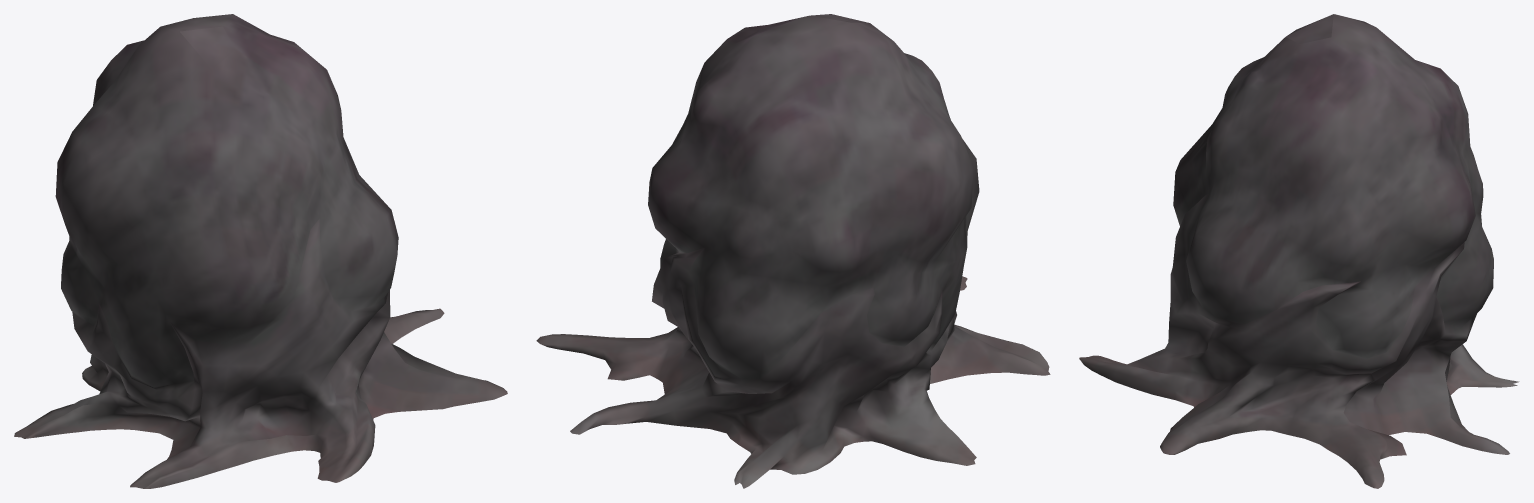
The model's file is Cocoon (30).fbx.
3 views of the same model, side by side, from view 1: azimuth 30°, elevation 25°; view 2: azimuth 150°, elevation 25°; view 3: azimuth 270°, elevation 25° (orthographic). The views are drawn at different scales.
Visible parts, largest first — view 1: Egg; view 2: Egg; view 3: Egg.
Part boxes in pixels (x1,y1,x2,y2): Egg: (14,14,507,488); Egg: (536,14,1050,488); Egg: (1079,14,1519,488).
Bounding box in the file's own units: 1 × 0.8652 × 0.9472.
